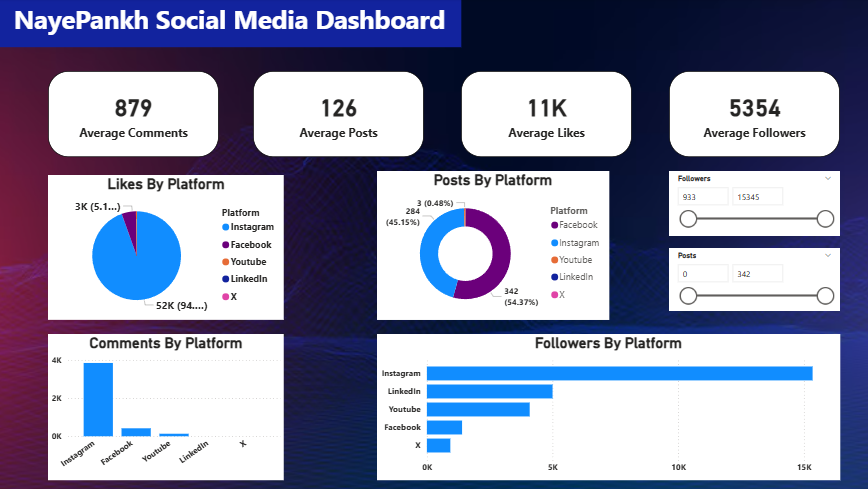

The dashboard page shown, as its layout file describes it:
{"tool":"powerbi","page":{"name":"Page 1","canvas":[1280,720],"ordinal":0},"visuals":[{"type":"textbox","box":[0,0,677.6,71.7],"z":0},{"type":"barChart","title":"Followers By Platform","fields":{"Category":["NayePankhDataset.Platform"],"Y":["Sum(NayePankhDataset.Followers)"]},"box":[554.6,491.7,677.6,213.7],"z":1000},{"type":"columnChart","title":"Comments By Platform","fields":{"Category":["NayePankhDataset.Platform"],"Y":["Sum(NayePankhDataset.Comments)"]},"box":[73.2,491.7,345.4,213.7],"z":2000},{"type":"card","fields":{"Values":["NayePankhDataset.AvgComments"]},"box":[73.2,106.8,250.2,125.9],"z":3000},{"type":"card","fields":{"Values":["NayePankhDataset.AvgPosts"]},"box":[373.2,106.8,250.2,125.9],"z":4000},{"type":"card","fields":{"Values":["NayePankhDataset.AvgLikes"]},"box":[677.6,106.8,250.2,125.9],"z":5000},{"type":"card","fields":{"Values":["NayePankhDataset.AvgFollowers"]},"box":[982,106.8,250.2,125.9],"z":6000},{"type":"pieChart","title":"Likes By Platform","fields":{"Category":["NayePankhDataset.Platform"],"Y":["Sum(NayePankhDataset.Likes)"]},"box":[73.2,259,345.4,212.2],"z":7000},{"type":"donutChart","title":"Posts By Platform","fields":{"Category":["NayePankhDataset.Platform"],"Y":["Sum(NayePankhDataset.Posts)"]},"box":[554.6,253.2,339.5,218],"z":8000},{"type":"slicer","fields":{"Values":["NayePankhDataset.Followers"]},"box":[982,253.2,250.2,95.1],"z":9000},{"type":"slicer","fields":{"Values":["NayePankhDataset.Posts"]},"box":[982,365.9,250.2,90.7],"z":10000}]}

Visuals, with their boxes in screenshot pixels (x1, y1, x2, y2), scaled from the page's 1280x720 canvas onto the 868x489 screenshot:
textbox: region(0, 0, 459, 49)
"Followers By Platform" barChart: region(376, 334, 836, 479)
"Comments By Platform" columnChart: region(50, 334, 284, 479)
card - NayePankhDataset.AvgComments: region(50, 73, 219, 158)
card - NayePankhDataset.AvgPosts: region(253, 73, 423, 158)
card - NayePankhDataset.AvgLikes: region(459, 73, 629, 158)
card - NayePankhDataset.AvgFollowers: region(666, 73, 836, 158)
"Likes By Platform" pieChart: region(50, 176, 284, 320)
"Posts By Platform" donutChart: region(376, 172, 606, 320)
slicer - NayePankhDataset.Followers: region(666, 172, 836, 237)
slicer - NayePankhDataset.Posts: region(666, 249, 836, 310)
